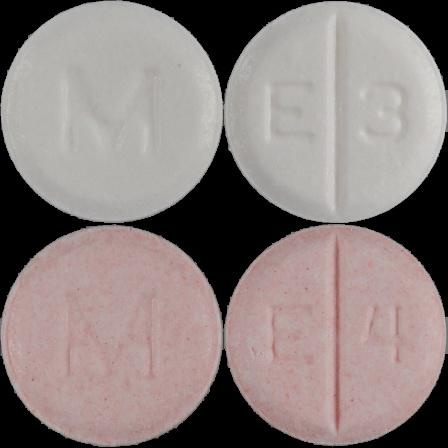0179-0073: (0, 0, 224, 224)
